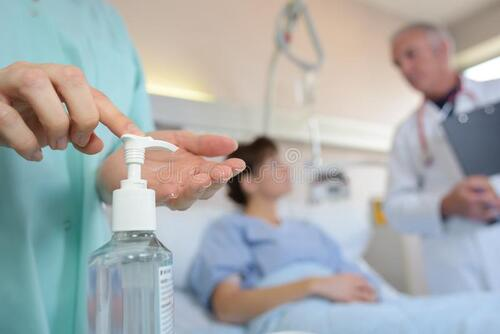sanitizer: (88, 130, 173, 334)
